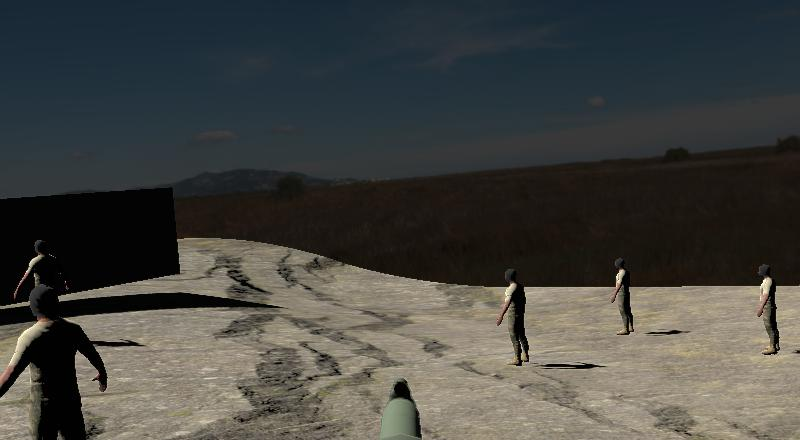Human: (0, 280, 112, 440), (493, 265, 533, 370), (755, 260, 783, 359), (755, 261, 783, 358), (609, 252, 637, 338)
